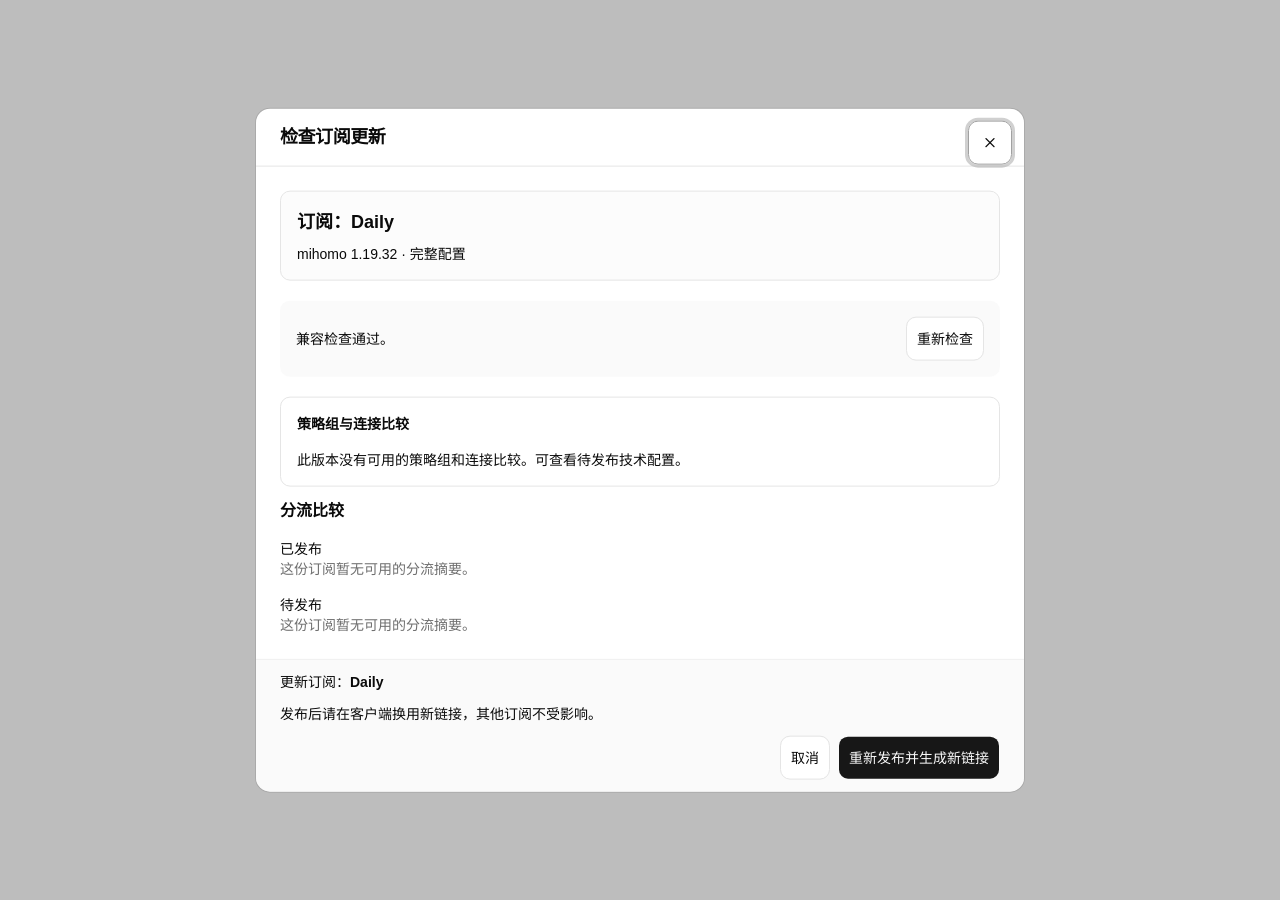
Test: opens one authoritative automatic inspection in StrictMode and explicitly rechecks once
The width and height of the screenshot is (1280, 900).
Check: the button with aria-label "重新发布并生成新链接「Daily」" is shown, box left=838, top=735, right=1000, bottom=779
Click the button "重新检查": (945, 338) left=906, top=316, right=984, bottom=360
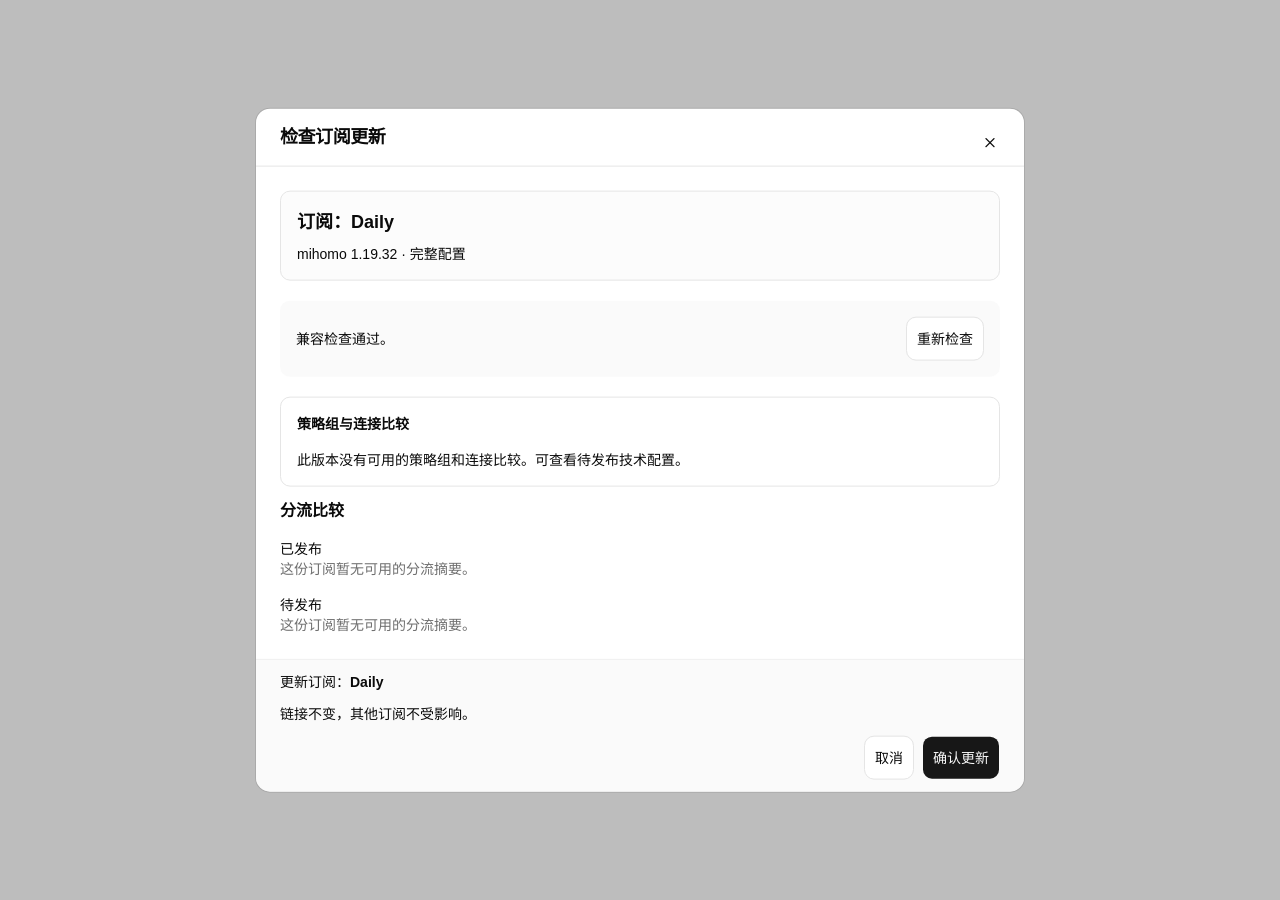
Check: the button with aria-label "确认更新「Daily」" is shown, box left=922, top=735, right=1000, bottom=779
Check: the text "链接不变，其他订阅不受影响。" is shown, box left=280, top=705, right=476, bottom=721
Check: the text "发布后请在客户端换用新链接，其他订阅不受影响。" is gone
